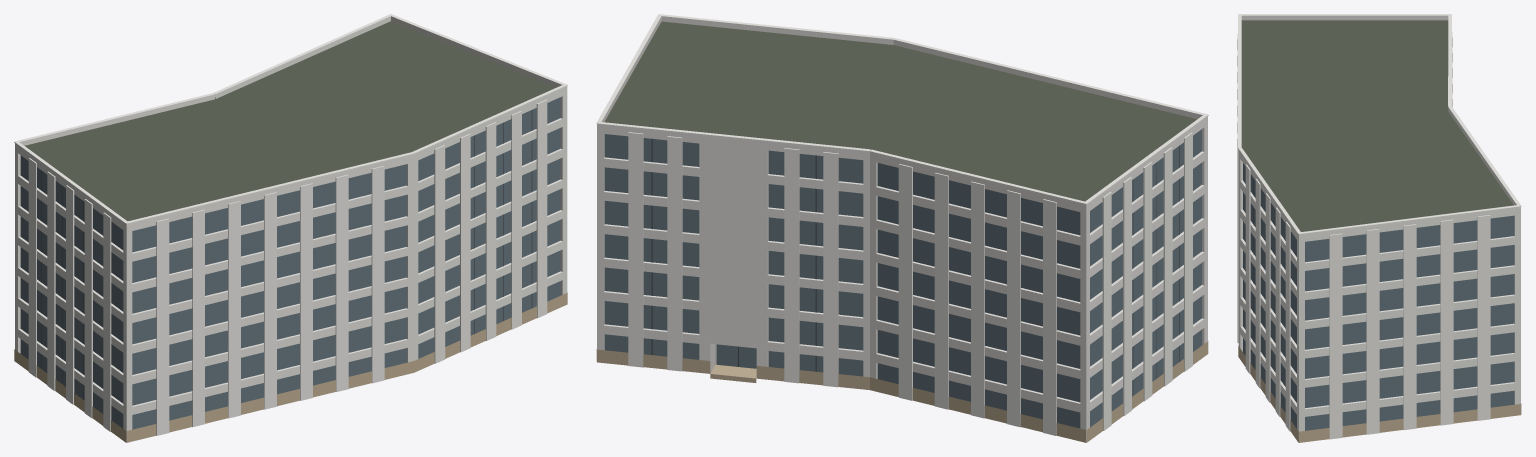
3 views of the same model, side by side, from view 1: azimuth 30°, elevation 25°; view 2: azimuth 150°, elevation 25°; view 3: azimuth 270°, elevation 25° (orthographic). The views are drawn at different scales.
Visible parts, largest first — view 1: eh302__glass, eh302__roof, eh302__trim, eh302__wall, eh302__parapet, eh302__base, eh302__frame; view 2: eh302__roof, eh302__glass, eh302__trim, eh302__wall, eh302__parapet, eh302__base, eh302__frame; view 3: eh302__roof, eh302__glass, eh302__trim, eh302__wall, eh302__parapet, eh302__base.
Part boxes in pixels (x1,y1,x2,y2): eh302__glass: (20, 97, 560, 429); eh302__roof: (24, 21, 556, 221); eh302__trim: (14, 14, 567, 435); eh302__wall: (15, 90, 567, 442); eh302__parapet: (15, 16, 567, 228); eh302__base: (14, 292, 567, 442); eh302__frame: (41, 110, 532, 399); eh302__roof: (604, 21, 1197, 442); eh302__glass: (604, 129, 1201, 428); eh302__trim: (596, 14, 1208, 435); eh302__wall: (597, 120, 1207, 442); eh302__parapet: (597, 16, 1207, 208); eh302__base: (596, 341, 1208, 442); eh302__frame: (651, 139, 1179, 395); eh302__roof: (1241, 20, 1513, 231); eh302__glass: (1243, 163, 1514, 430); eh302__trim: (1237, 14, 1521, 439); eh302__wall: (1238, 153, 1520, 442); eh302__parapet: (1238, 15, 1520, 238); eh302__base: (1238, 346, 1521, 442).
Size of the model in its own units: 50.18 by 22.6 by 27.35.
